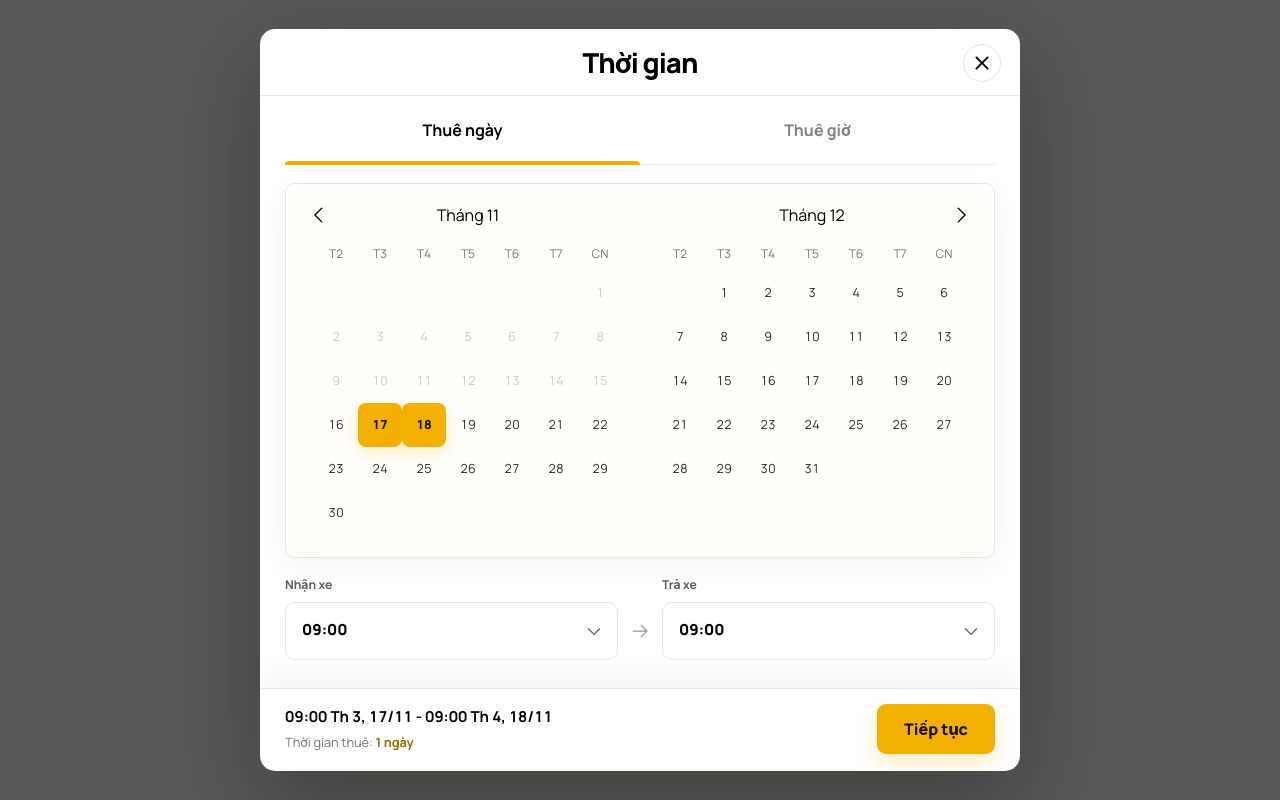
Test: disables past pickup times for today but allows them on a future day
This screenshot has width=1280, height=800.
Later steps or results of the test are not shown.
Click the button named "Chọn ngày 16 tháng 11".
click(336, 425)  # box [314, 403, 358, 447]
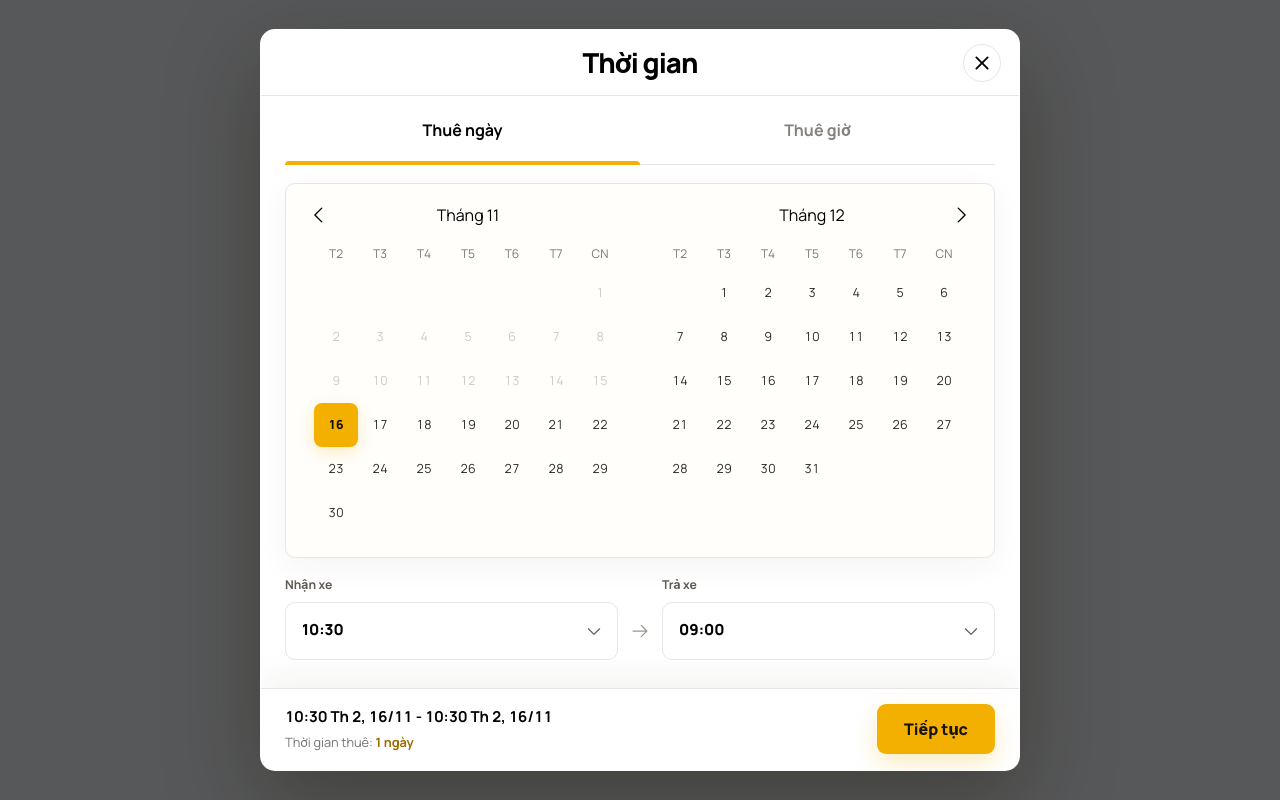
Expected: the dropdown labelled "Nhận xe" shows "10:30", [285, 602, 618, 660]
